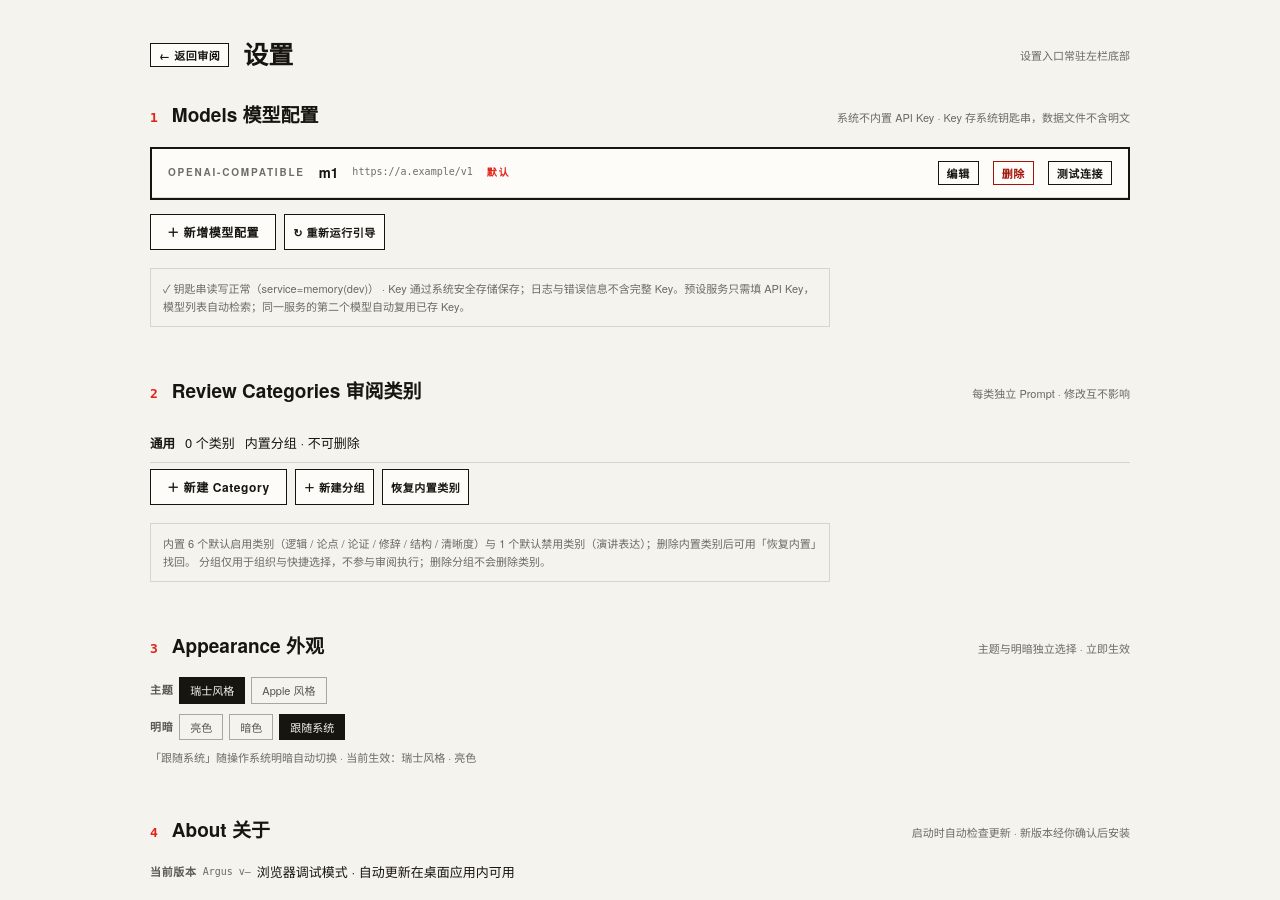
Scenario: 2.4 编辑表单按配置来源分流（spec: settings 编辑预设配置沿用预设形态） › 编辑自定义配置 → 全字段形态：Base URL 可见可改
Click the button "编辑".
click(958, 173)  # box [938,161,979,185]
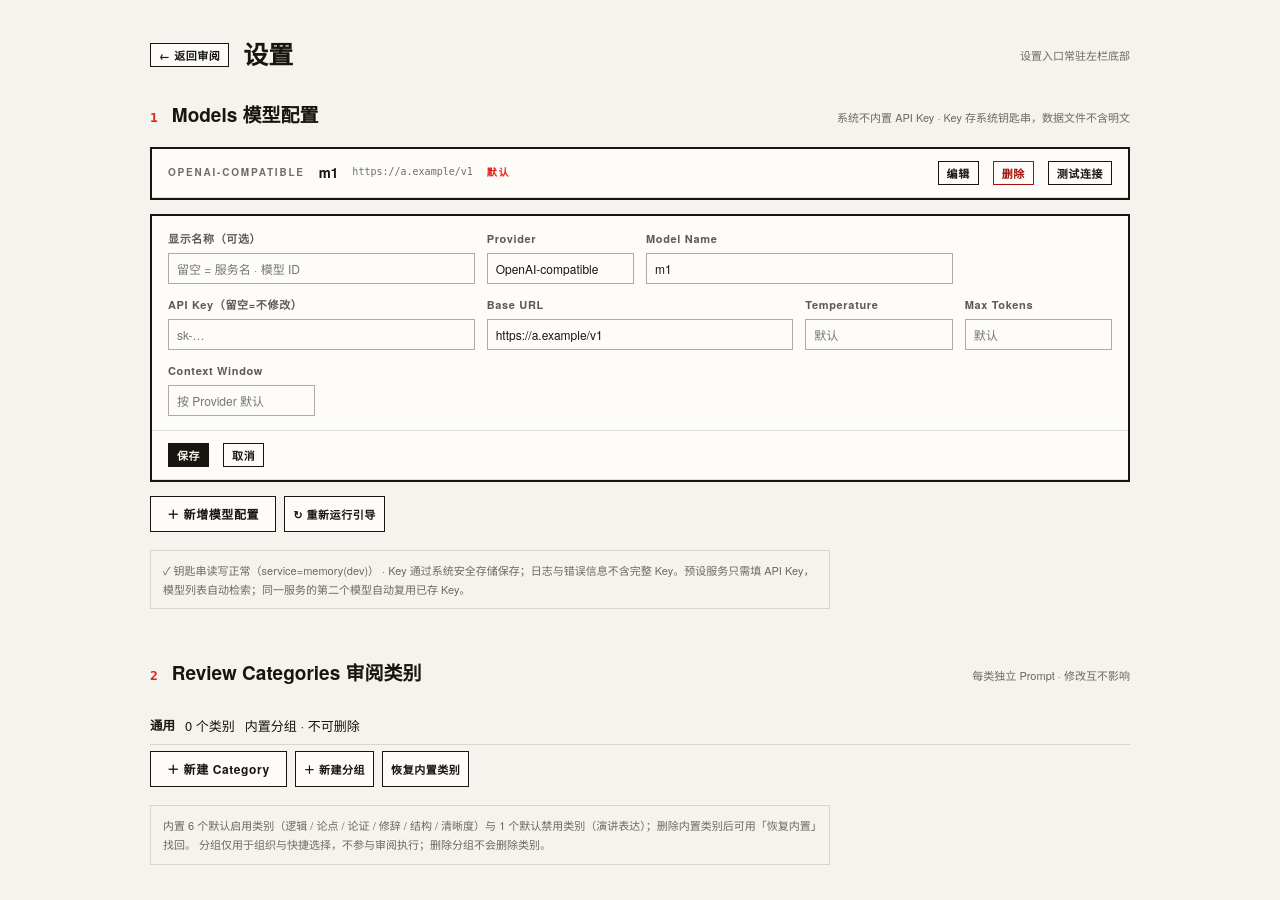
Now the text "Base URL" is shown, box [487,297,544,312]
